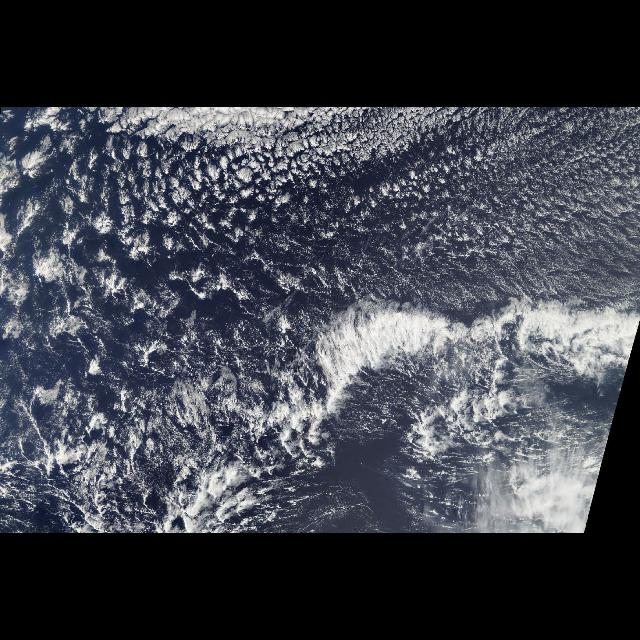Flower: (0, 222, 182, 366)
Sugar: (475, 110, 635, 298), (308, 154, 470, 298)
